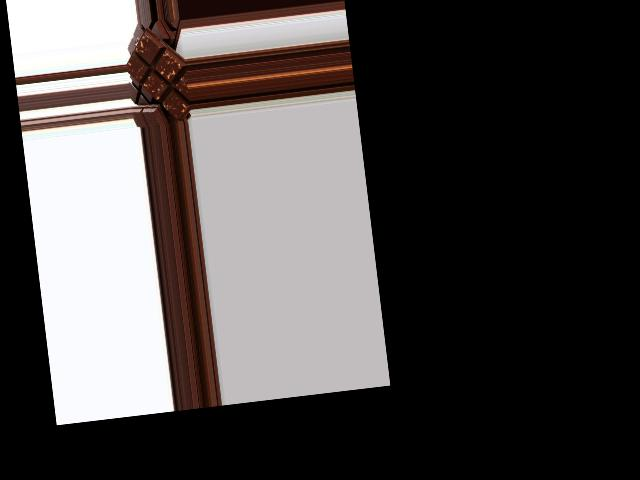chocolate: (124, 30, 192, 125)
